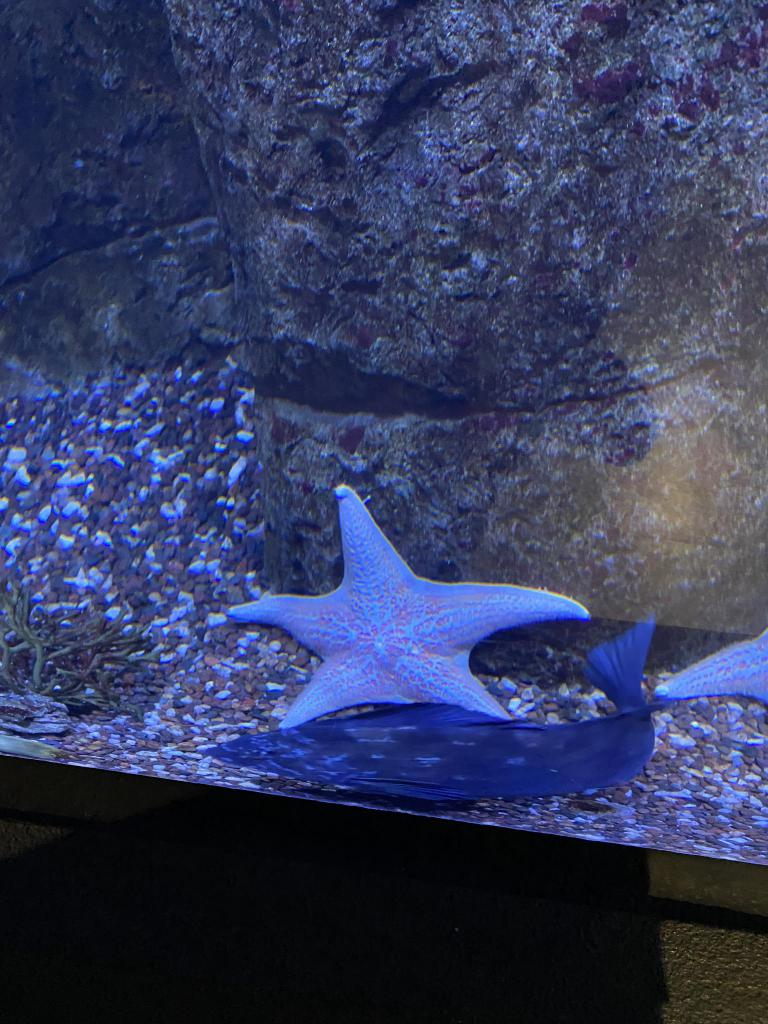fish: (207, 615, 654, 799)
starfish: (225, 485, 589, 729), (655, 626, 767, 702)
